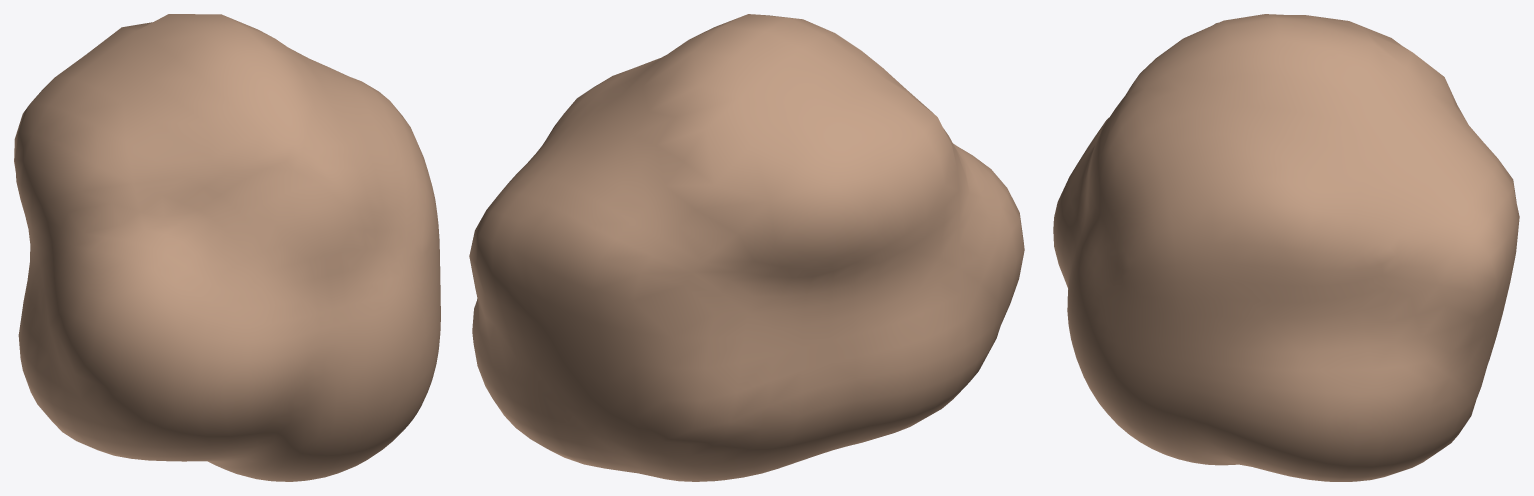
Rendered from Rock5.fbx.
3 views of the same model, side by side, from view 1: azimuth 30°, elevation 25°; view 2: azimuth 150°, elevation 25°; view 3: azimuth 270°, elevation 25° (orthographic). The views are drawn at different scales.
Parts seen in each view (by area): view 1: sphere; view 2: sphere; view 3: sphere.
Boxes of the visible parts, x1,y1,x2,y2 form: sphere: (14, 14, 440, 481); sphere: (469, 14, 1024, 481); sphere: (1053, 14, 1519, 481).
Bounding box in the file's own units: 317 × 301 × 312.
